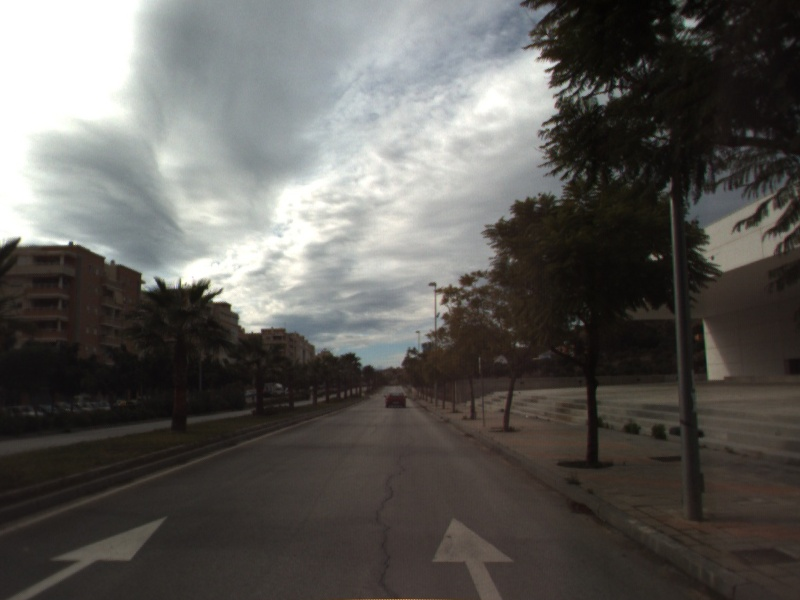STRAIGHT: (3, 511, 172, 600), (428, 514, 519, 600)
